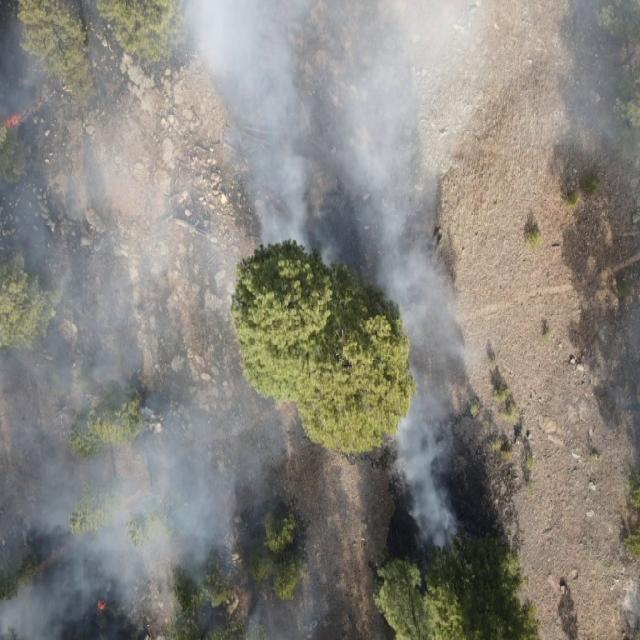fire: (3, 96, 37, 130), (95, 598, 108, 614)
smoke: (0, 0, 456, 552), (0, 552, 375, 640), (456, 0, 640, 162), (587, 163, 640, 488), (456, 318, 493, 458)
